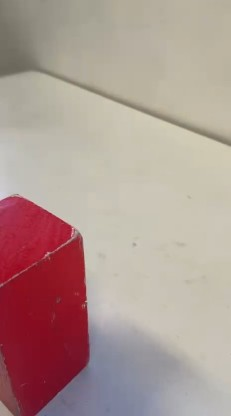red: (0, 195, 95, 409)
